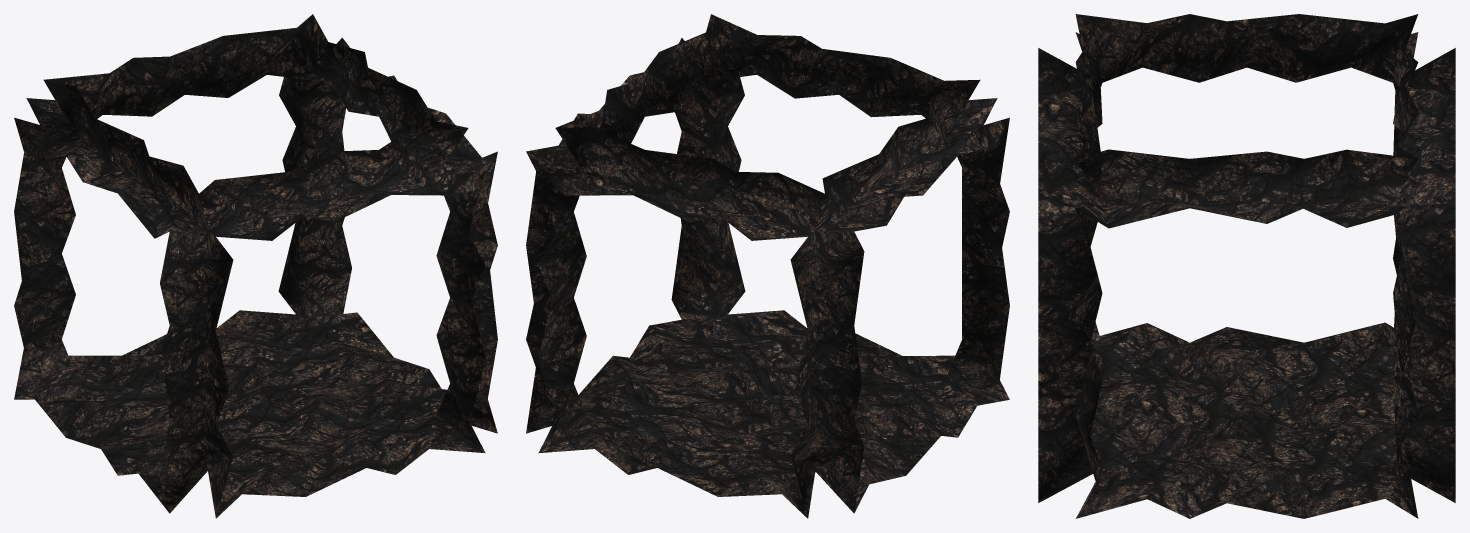
File: Level Piece - 5 Way Intersection.FBX
3 renders of one model, left to right at view 1: azimuth 30°, elevation 25°; view 2: azimuth 150°, elevation 25°; view 3: azimuth 270°, elevation 25°, orthographic. The views are drawn at different scales.
Parts seen in each view (by area): view 1: 5-Intersection001; view 2: 5-Intersection001; view 3: 5-Intersection001.
Part boxes in pixels (x1,y1,x2,y2): 5-Intersection001: (14, 14, 497, 518); 5-Intersection001: (526, 14, 1009, 518); 5-Intersection001: (1038, 14, 1455, 518).
Bounding box in the file's own units: 254 × 254 × 231.
Materials: 1 (1 with a texture image).
